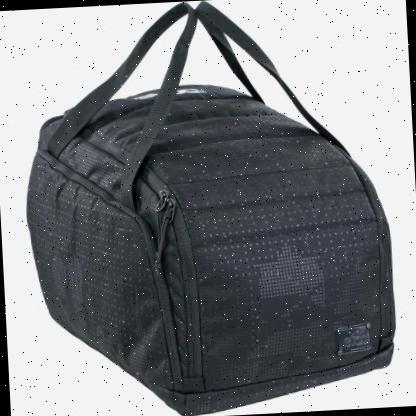bag: (16, 0, 407, 416)
